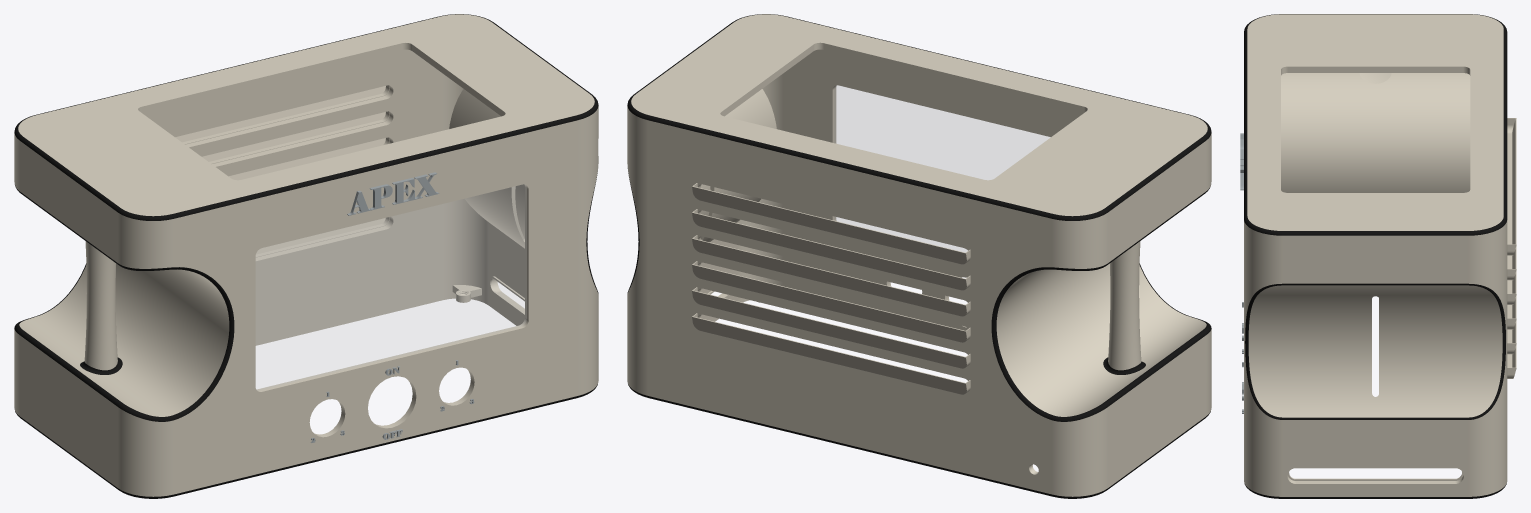
The model's file is Carcaça Apex.glb.
The picture shows the model from 3 angles, left to right: view 1: azimuth 30°, elevation 25°; view 2: azimuth 150°, elevation 25°; view 3: azimuth 270°, elevation 25°; orthographic projection. The views are drawn at different scales.
Parts seen in each view (by area): view 1: Cut-Extrude1 - Part, Surface-Fill2 - Part, Cut-Extrude1 - Part 2, Cut-Extrude1 - Part 3; view 2: Cut-Extrude1 - Part, Surface-Fill2 - Part, Cut-Extrude1 - Part 2; view 3: Cut-Extrude1 - Part, Cut-Extrude1 - Part 2, Boss-Extrude1 - Part.
Boxes of the visible parts, x1,y1,x2,y2 form: Cut-Extrude1 - Part: (14, 14, 598, 496); Surface-Fill2 - Part: (256, 184, 526, 390); Cut-Extrude1 - Part 2: (14, 14, 598, 498); Cut-Extrude1 - Part 3: (347, 172, 439, 215); Cut-Extrude1 - Part: (627, 14, 1211, 496); Surface-Fill2 - Part: (834, 85, 1049, 252); Cut-Extrude1 - Part 2: (627, 14, 1211, 498); Cut-Extrude1 - Part: (1244, 14, 1516, 496); Cut-Extrude1 - Part 2: (1244, 14, 1507, 498); Boss-Extrude1 - Part: (1287, 471, 1463, 480).
Bounding box in the file's own units: 0.294 × 0.167 × 0.1563.
